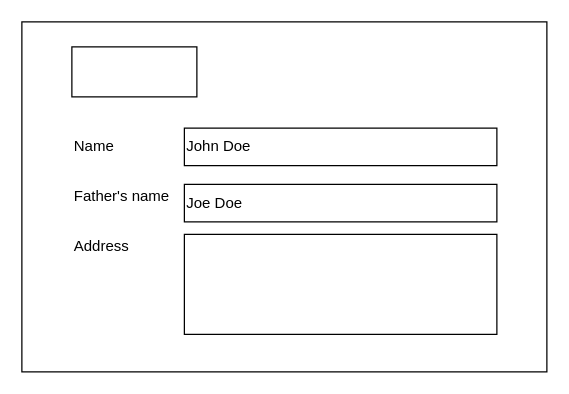
The diagram is 569 pixels wide and 394 high, and some of its shapes have lost their labels. The centre of each missing label's shape, as x and y in pixels:
"Discharge" goes at pixel 134 71.
"Guesthouse" goes at pixel 340 283.
